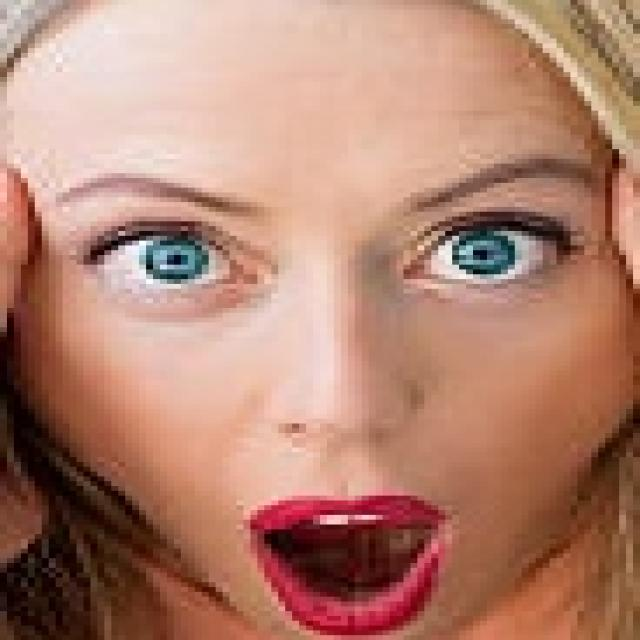Anxiety: (0, 0, 633, 635)
